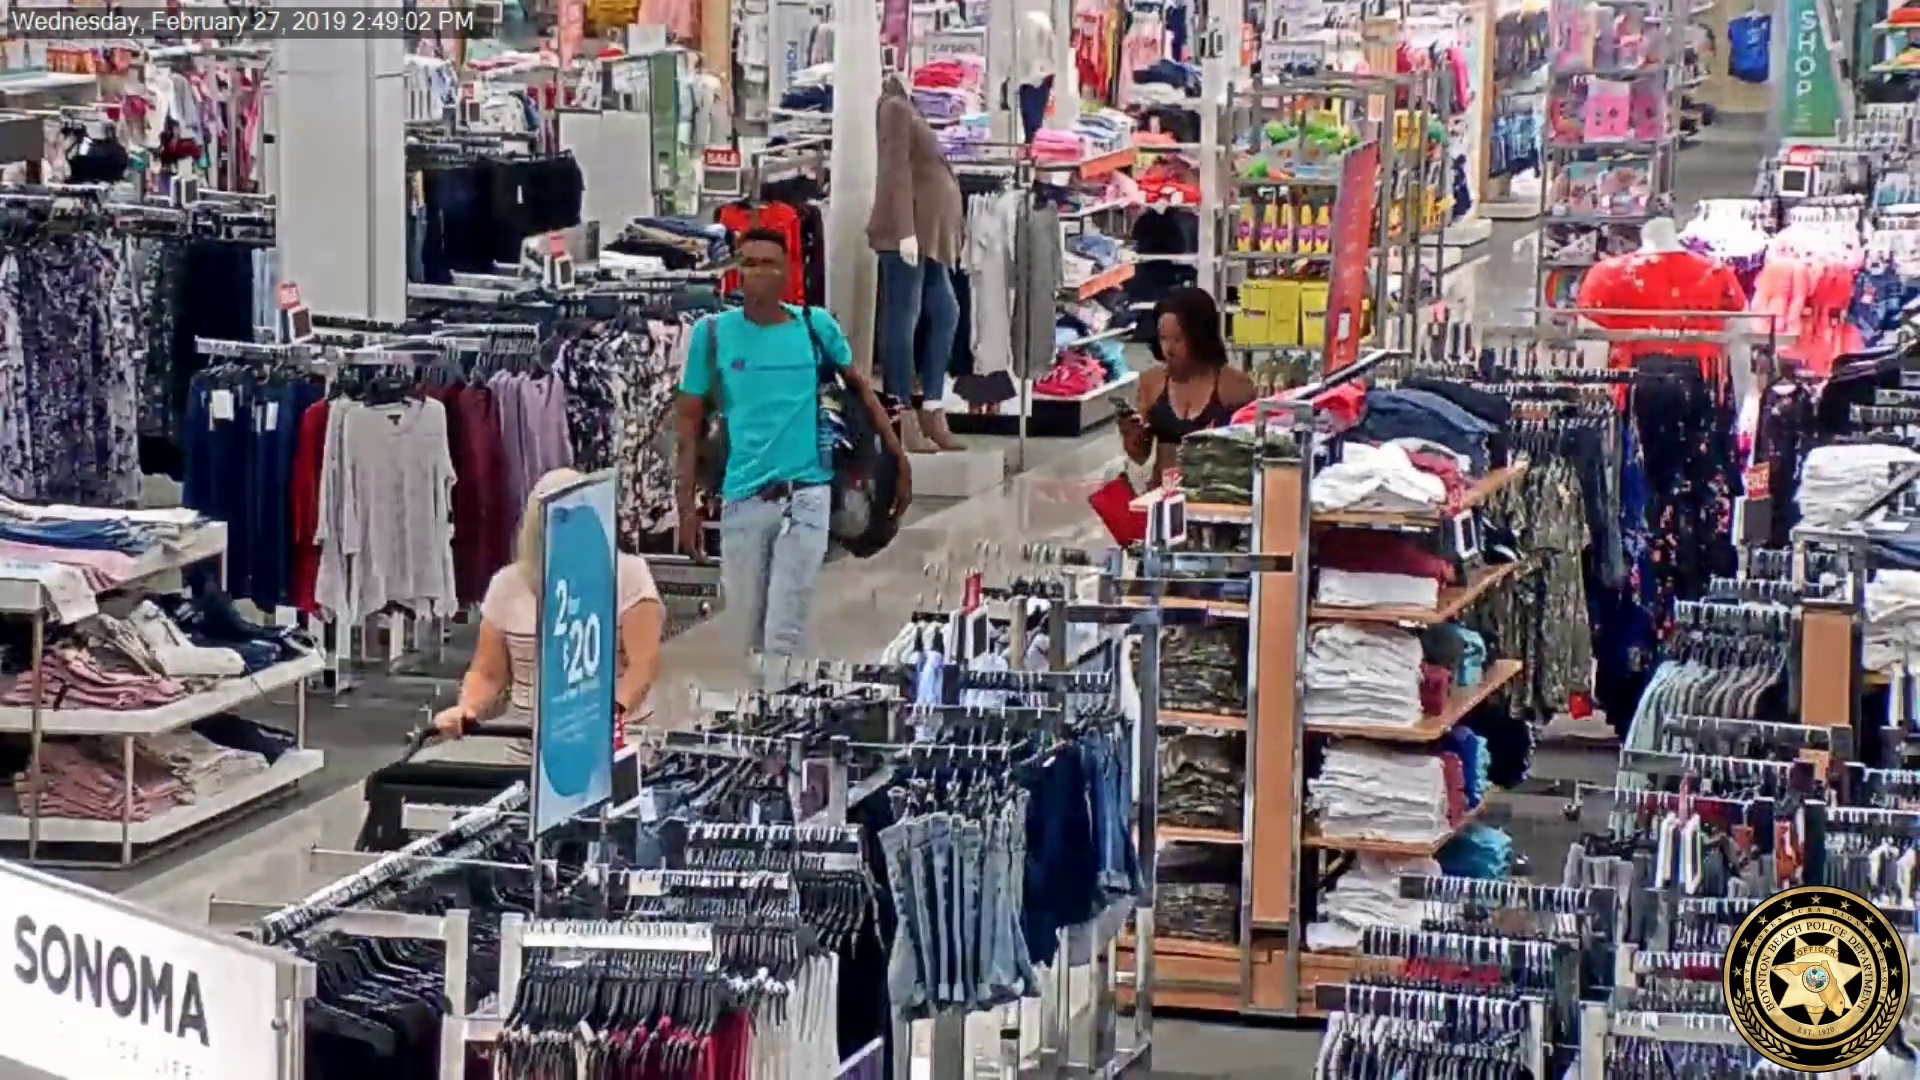face: (1154, 314, 1207, 377), (740, 243, 784, 295)
